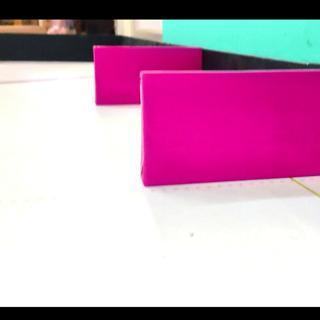xparking: (142, 74, 320, 187), (96, 48, 140, 106)
